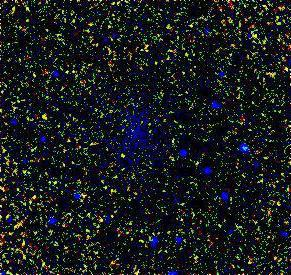star: (109, 140, 139, 170)
